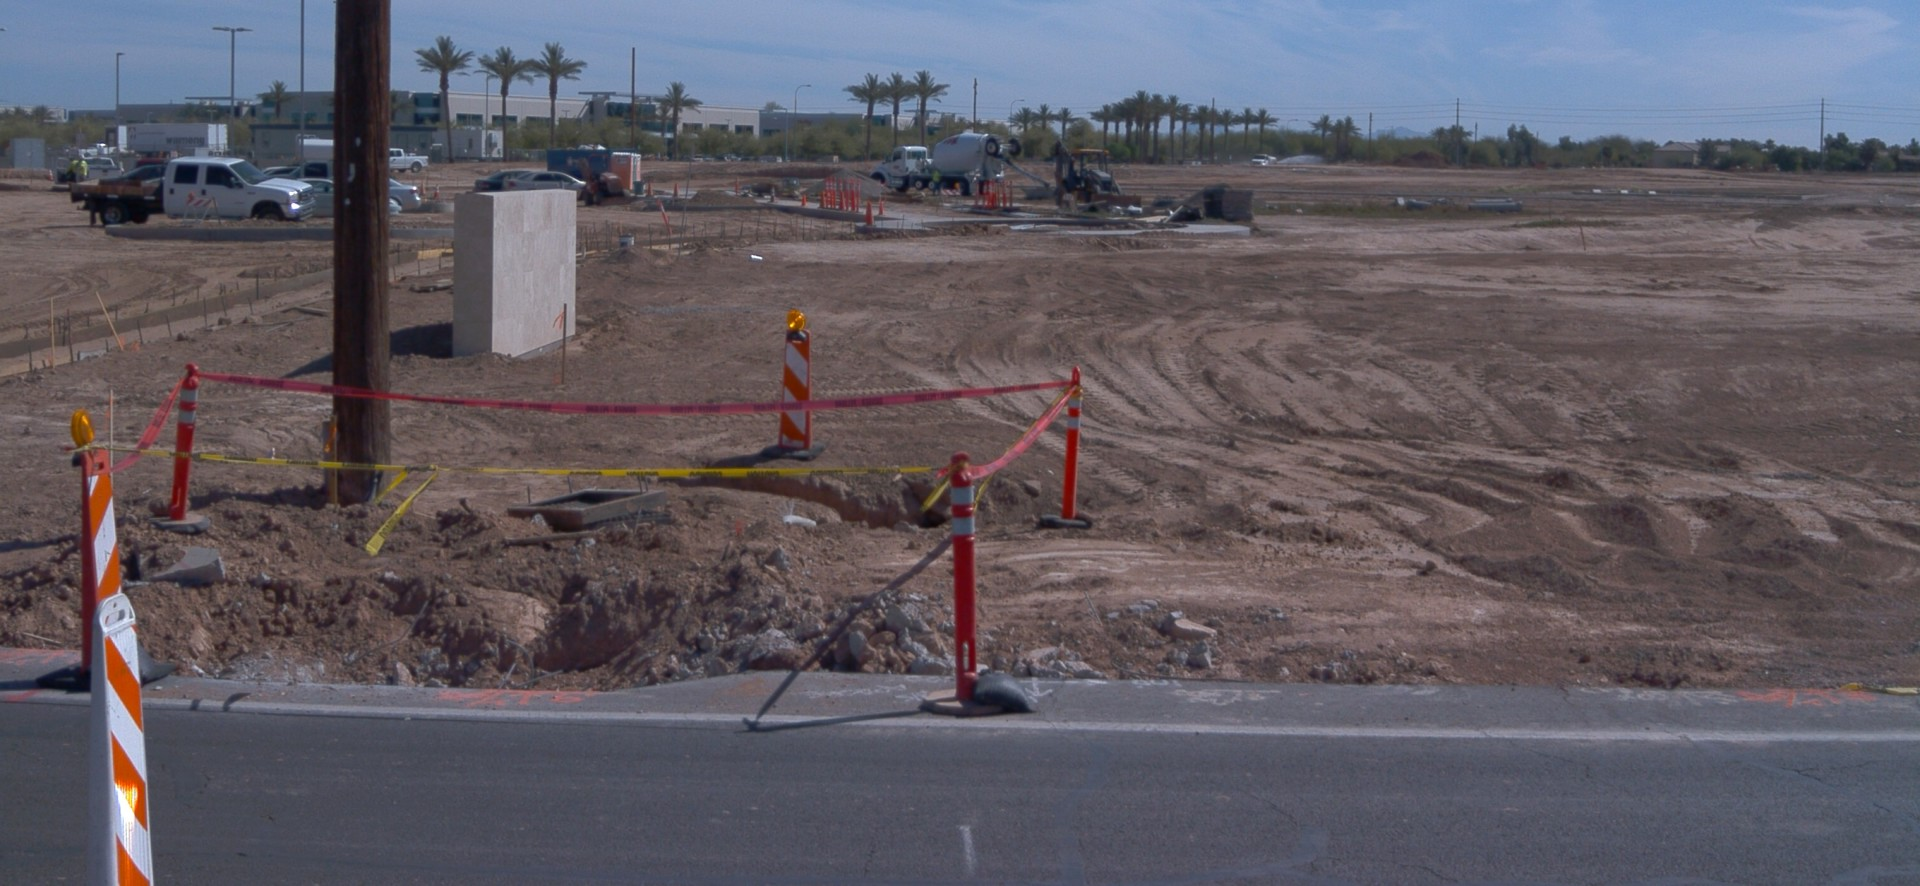TYPE_PEDESTRIAN: (76, 154, 91, 183), (932, 164, 944, 196), (69, 153, 81, 182)
TYPE_VEHICLE: (66, 156, 316, 228), (869, 132, 1053, 194), (1045, 138, 1147, 218), (291, 177, 399, 217), (327, 174, 423, 215), (142, 118, 228, 158), (579, 149, 633, 207), (501, 171, 587, 205), (11, 134, 125, 157), (297, 133, 355, 171), (55, 155, 122, 186), (372, 147, 431, 175), (475, 167, 522, 199), (269, 161, 331, 183), (96, 164, 164, 183), (1246, 151, 1275, 166), (135, 157, 170, 169), (262, 165, 285, 176)
